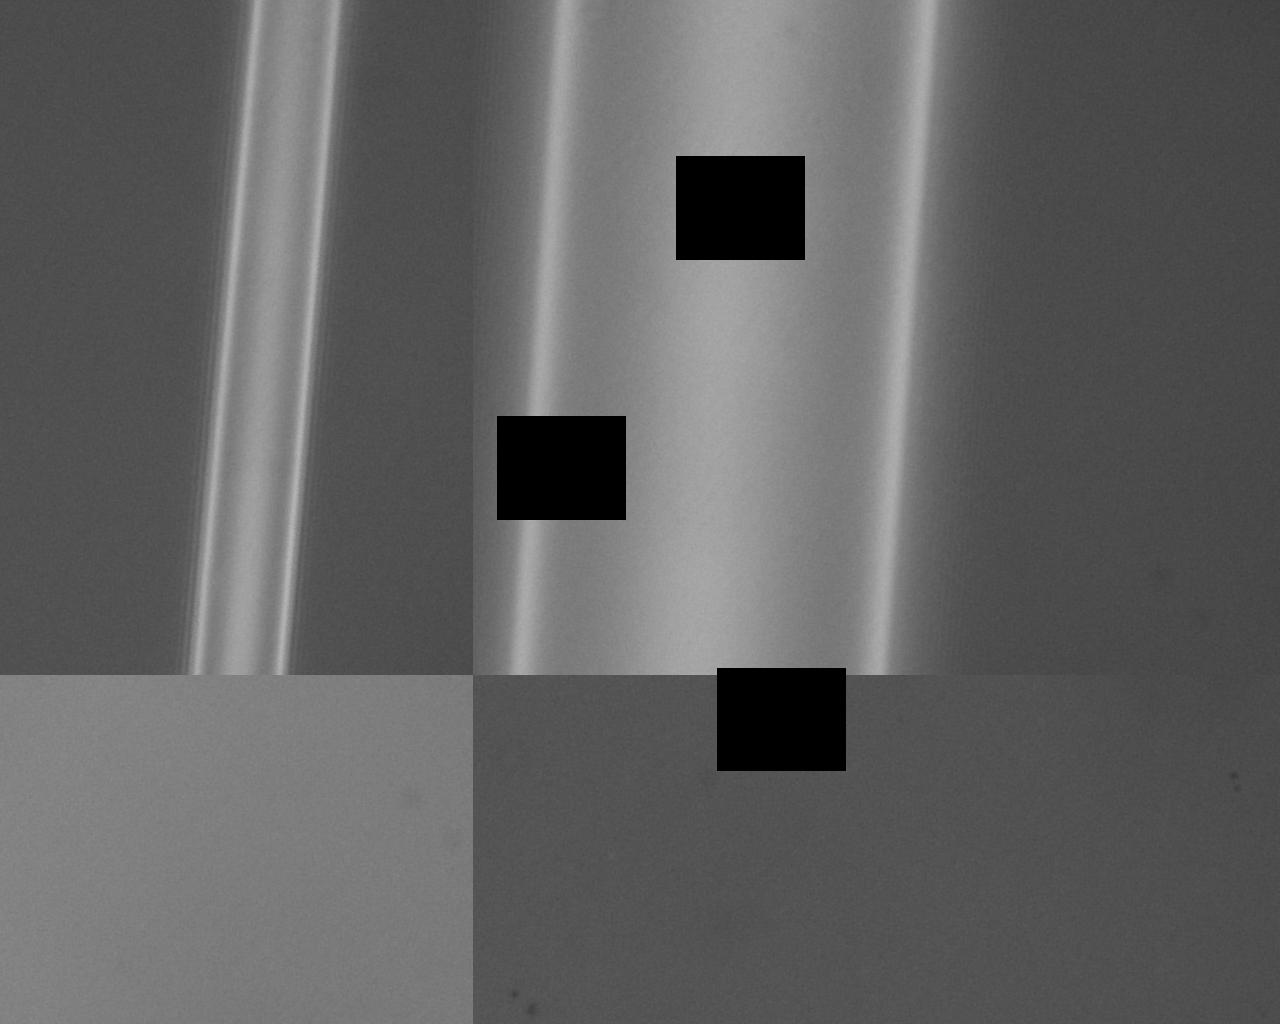fiber: (323, 552, 459, 1024)
